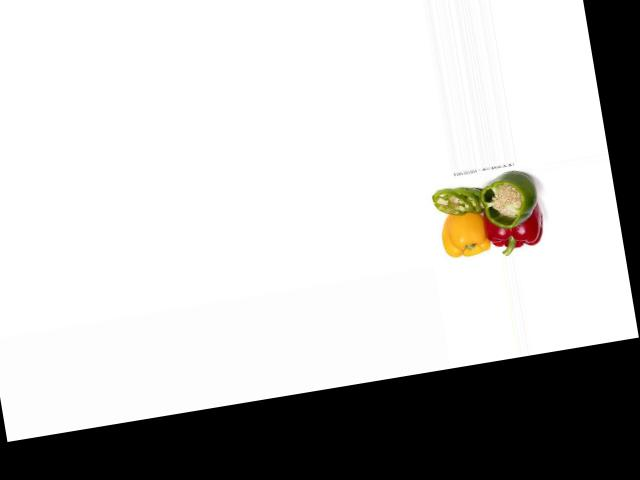bell_pepper: (477, 171, 547, 233)
